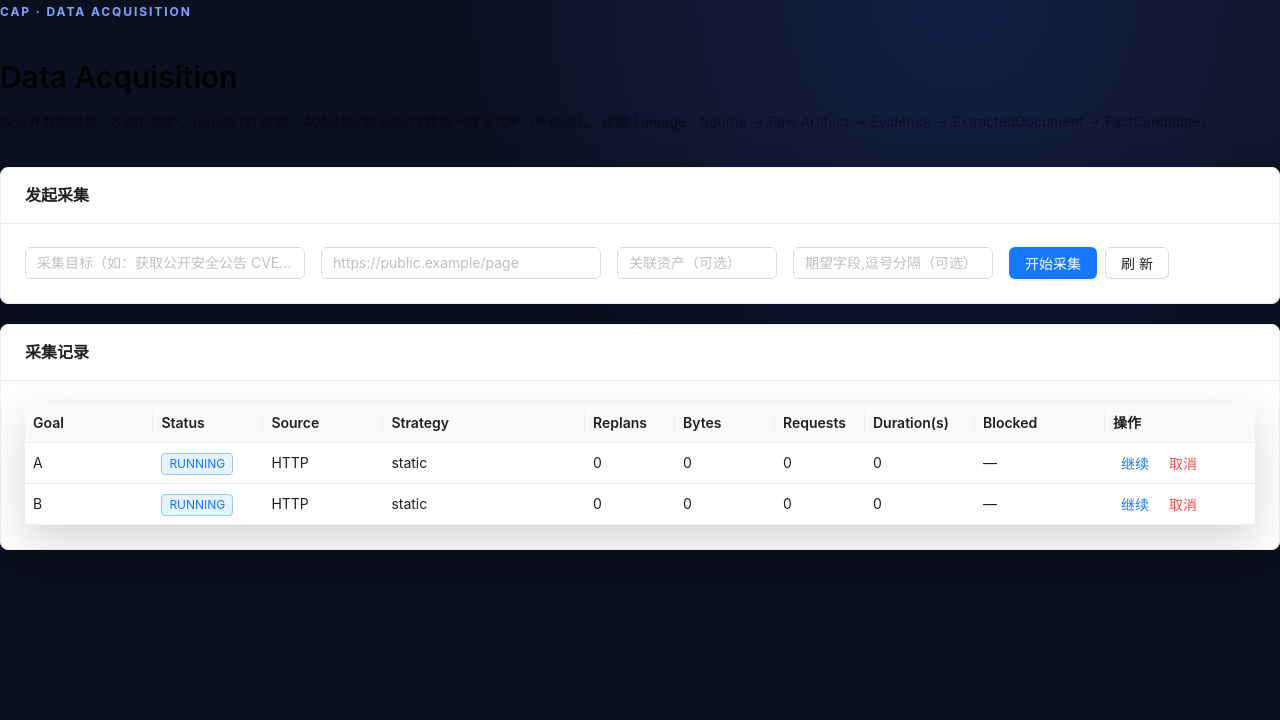
Test: Data Acquisition › clears a previous run's evidence when the new run's evidence fails
The image size is (1280, 720).
What coordinates should you click on to do the following:
click the text "A"
I would click on:
 (89, 464)
Its box is [25,443,153,484].
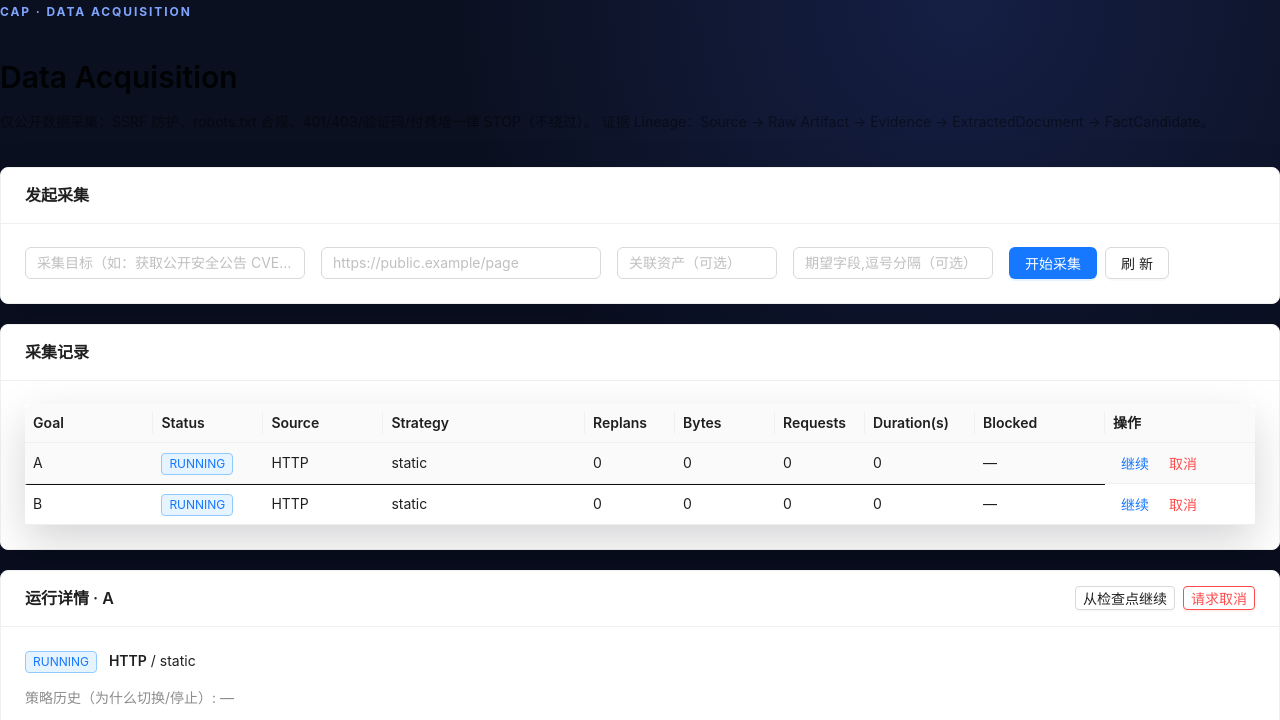
// Run B's evidence request fails: run A's artifact must not linger under it.
What coordinates should you click on to do the following:
click the text "B"
I would click on:
 (89, 504)
Its box is [25,484,153,525].
(page scrolled)
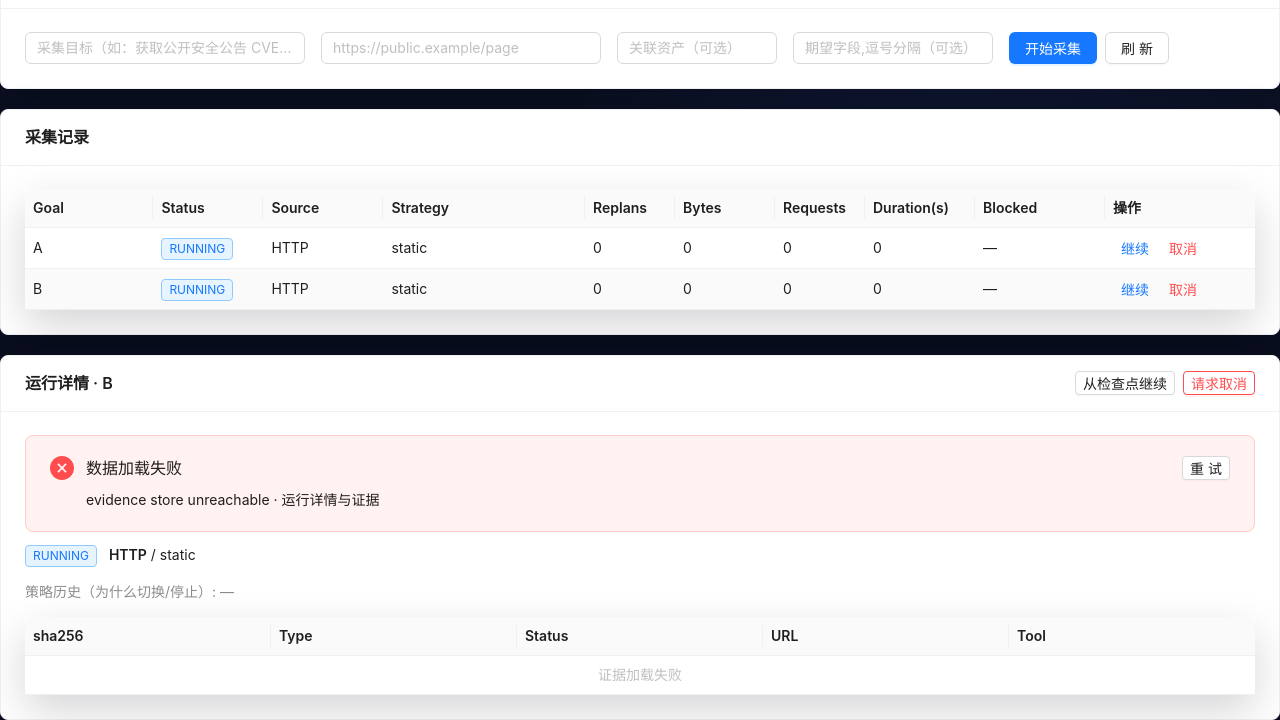
Check: the text "运行详情 · B" is shown, box [25,373,113,393]
Check: the text "证据加载失败" is shown, box [25,656,1255,695]
